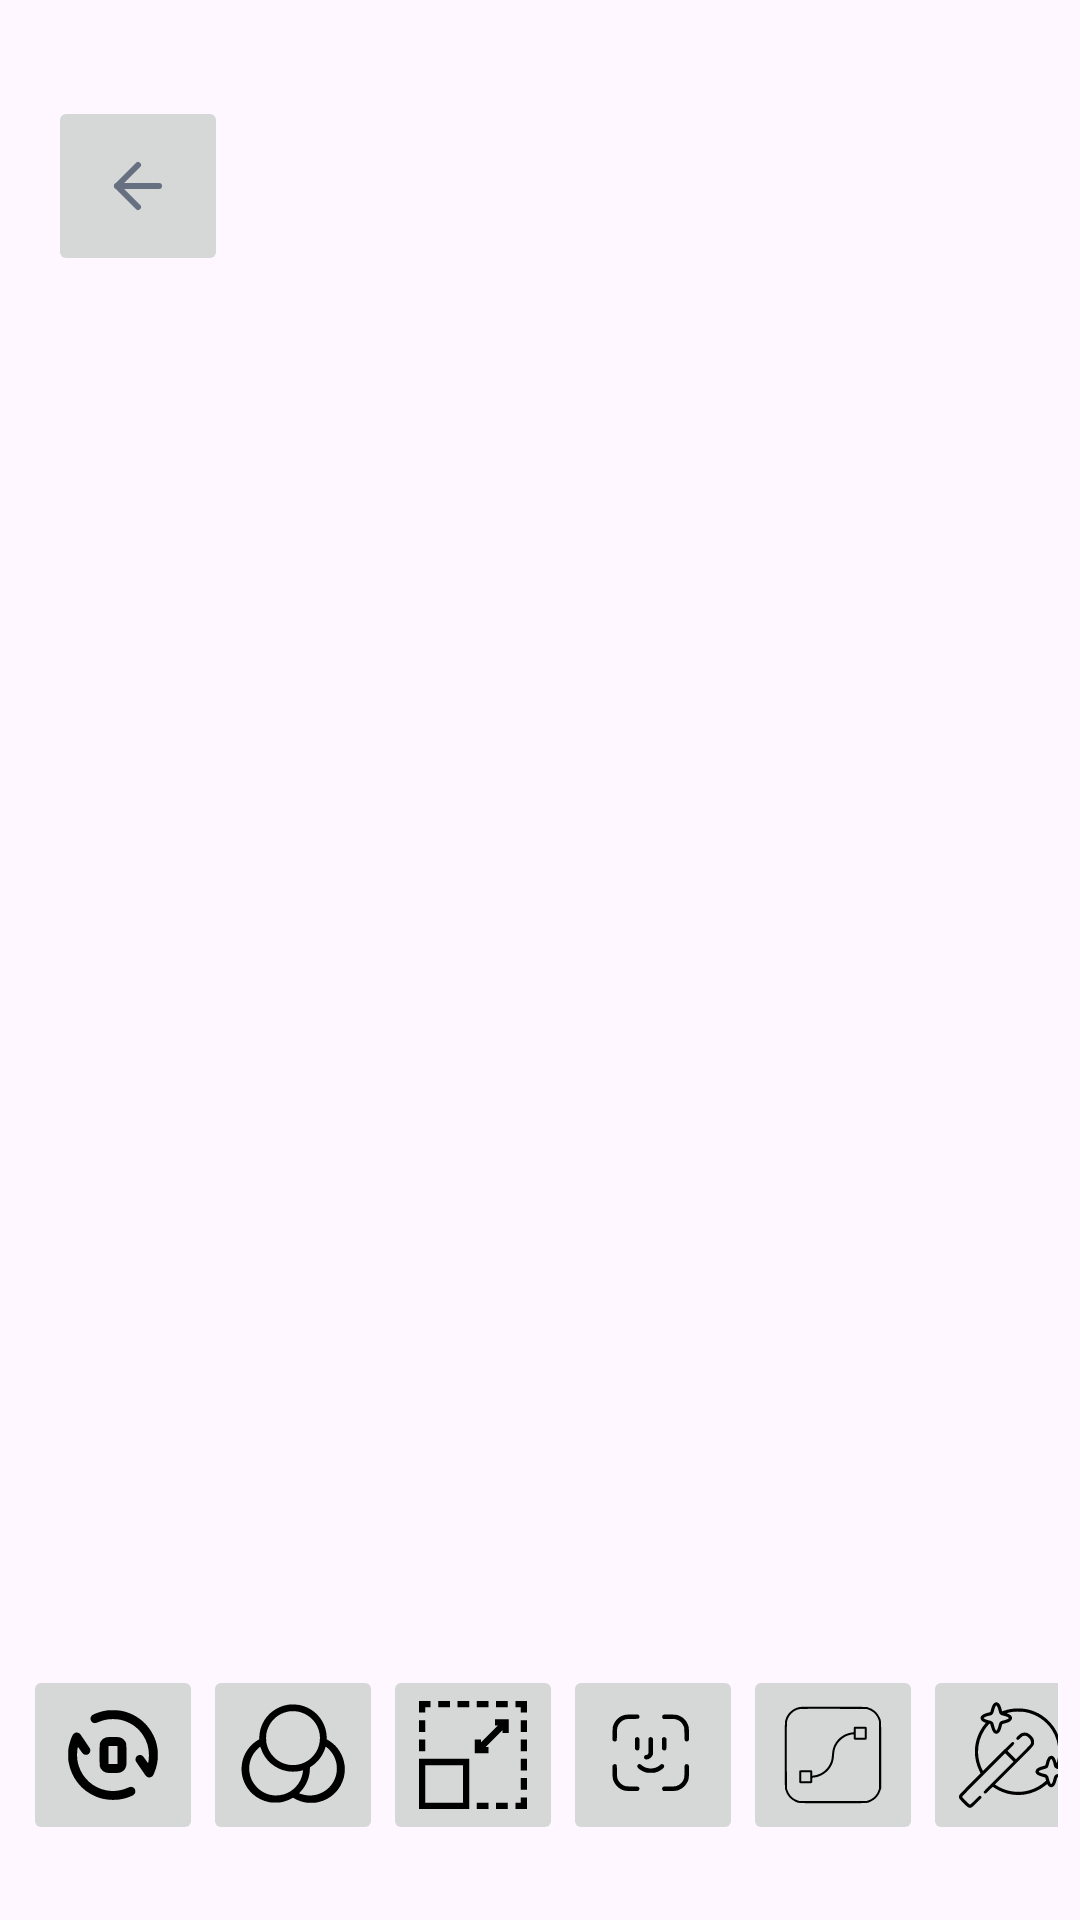

Named icons in this screenshot (1080w x 1920h) and their bounding boxes, (x1, y1, x2, y2):
arrow left: (60, 114, 216, 258)
COLOR: (215, 1683, 371, 1827)
FACE: (575, 1683, 731, 1827)
ROTATE: (35, 1683, 191, 1827)
SCALE: (395, 1683, 551, 1827)
VECTOR: (755, 1683, 911, 1827)
